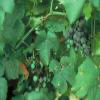grape leaf black rot: (70, 56, 99, 99), (34, 28, 61, 66), (48, 56, 75, 94), (15, 47, 32, 79)
